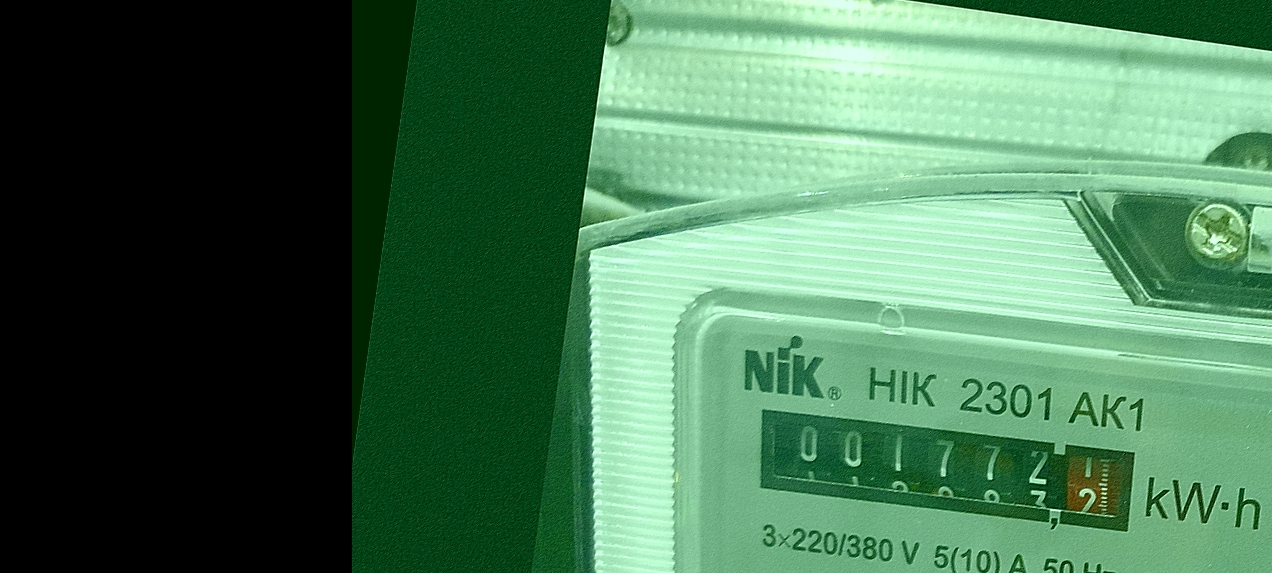0: (792, 418, 824, 462), (839, 424, 867, 466)
1: (887, 430, 909, 470), (1080, 452, 1096, 479)
2: (1025, 446, 1052, 485), (1072, 481, 1099, 513)
3: (1026, 484, 1051, 508)
7: (930, 434, 958, 478), (976, 439, 1003, 480)
screen: (739, 386, 1157, 550)
